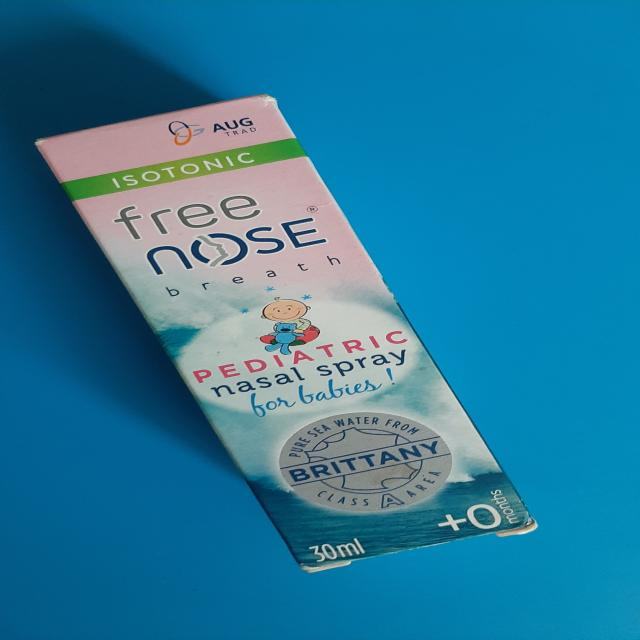Free Nose: (32, 100, 561, 580)
